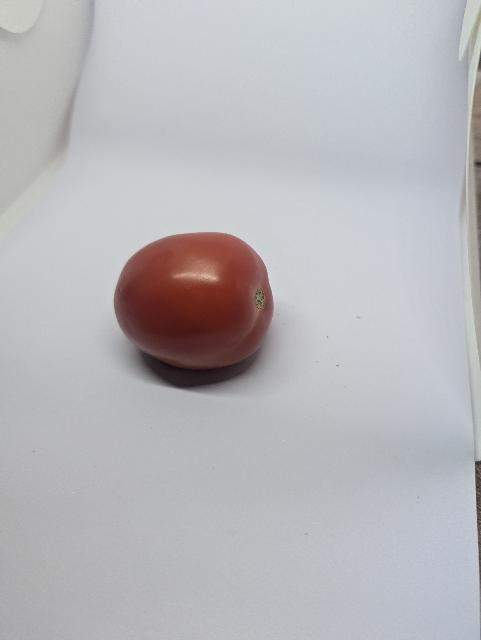red: (110, 225, 275, 399)
